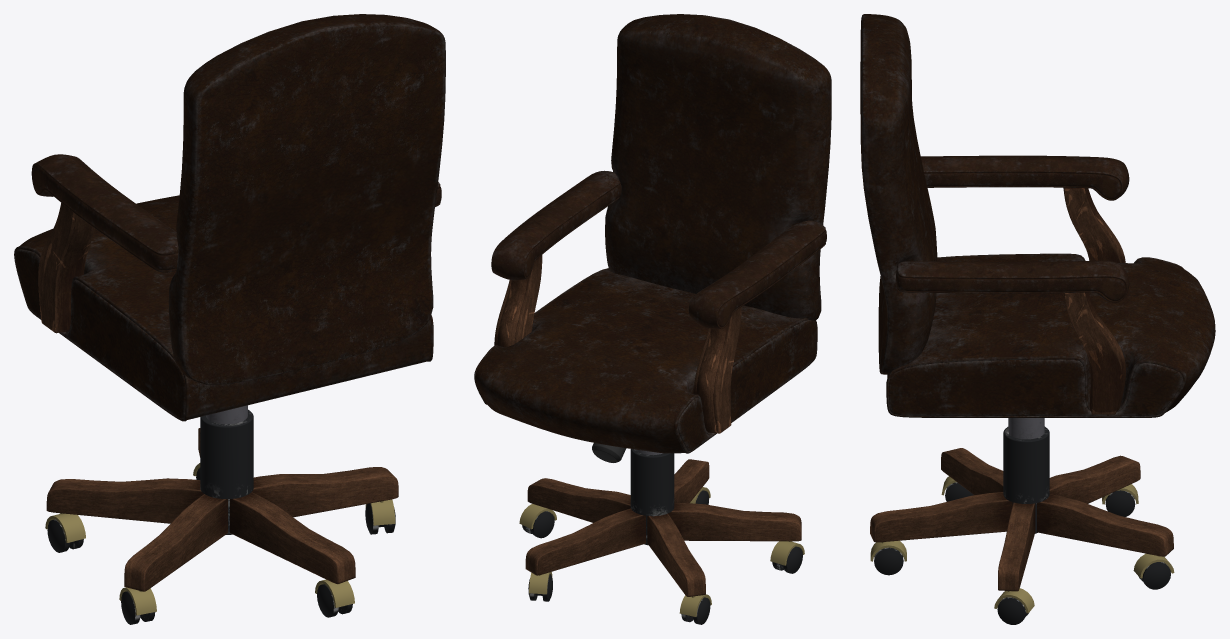
3 renders of one model, left to right at view 1: azimuth 30°, elevation 25°; view 2: azimuth 150°, elevation 25°; view 3: azimuth 270°, elevation 25°, orthographic. The views are drawn at different scales.
Parts seen in each view (by area): view 1: Backrest, Seat_cushion, Arm_rest_right2, Leg3, Leg, Leg1, Leg4, Central_stem, Arm_rest_strut_left, Wheel_cap (×3), wheel (×2); view 2: Backrest, Seat_cushion, Arm_rest_right2, Arm_rest_right, Leg4, Leg2, Arm_rest_strut_left, Central_stem, Leg1, Leg3, Arm_rest_strut_right, Leg (+1 smaller); view 3: Seat_cushion, Backrest, Arm_rest_right, Arm_rest_right2, Leg, Leg2, Arm_rest_strut_right, Central_stem, Leg3, wheel (×4), Arm_rest_strut_left, Leg1 (+1 smaller).
Part boxes in pixels (box(x1,y1,x2,y2)): Backrest: box(168, 14, 445, 384); Seat_cushion: box(14, 195, 433, 421); Arm_rest_right2: box(31, 154, 178, 272); Leg3: box(46, 478, 203, 523); Leg: box(230, 492, 355, 584); Leg1: box(252, 467, 398, 517); Leg4: box(124, 494, 227, 591); Central_stem: box(200, 405, 253, 534); Arm_rest_strut_left: box(38, 203, 94, 333); Wheel_cap (×3): box(45, 513, 354, 615); wheel (×2): box(47, 513, 352, 617); Backrest: box(605, 14, 831, 320); Seat_cushion: box(474, 268, 817, 453); Arm_rest_right2: box(688, 220, 826, 328); Arm_rest_right: box(491, 170, 621, 280); Leg4: box(668, 503, 801, 541); Leg2: box(525, 508, 645, 575); Arm_rest_strut_left: box(693, 307, 741, 433); Central_stem: box(630, 449, 674, 545); Leg1: box(527, 478, 630, 522); Leg3: box(647, 513, 705, 596); Arm_rest_strut_right: box(494, 255, 542, 346); Leg: box(674, 459, 709, 503); Seat_cushion: box(886, 253, 1215, 417); Backrest: box(860, 14, 937, 374); Arm_rest_right: box(896, 260, 1129, 302); Arm_rest_right2: box(921, 155, 1129, 200); Leg: box(870, 492, 1012, 542); Leg2: box(1037, 494, 1173, 556); Arm_rest_strut_right: box(1063, 292, 1125, 414); Central_stem: box(1003, 418, 1049, 533); Leg3: box(1049, 455, 1140, 503); wheel (×4): box(874, 490, 1170, 624); Arm_rest_strut_left: box(1063, 187, 1125, 262); Leg1: box(998, 502, 1035, 591).
Size of the model in its own units: 1.06 by 2 by 1.24.
Materials: 4 (4 with a texture image).
